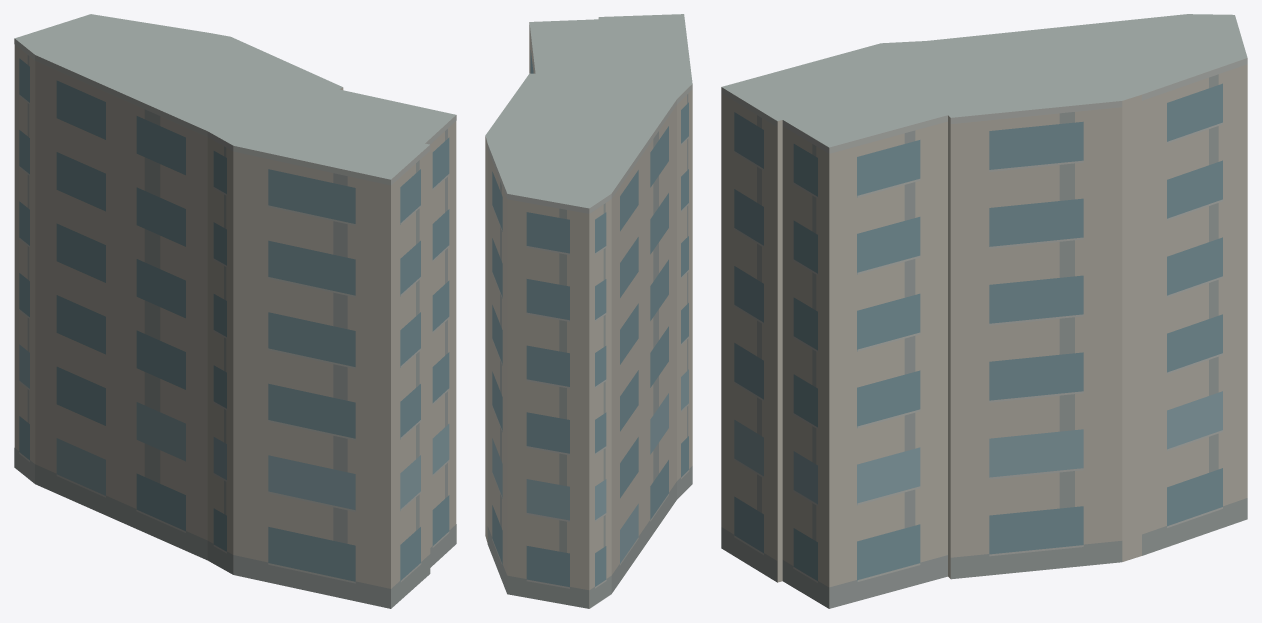
File: survey-upis-32962780.glb
3 views of the same model, side by side, from view 1: azimuth 30°, elevation 25°; view 2: azimuth 150°, elevation 25°; view 3: azimuth 270°, elevation 25° (orthographic). The views are drawn at different scales.
Parts seen in each view (by area): view 1: survey-upis-32962780.tmp; view 2: survey-upis-32962780.tmp; view 3: survey-upis-32962780.tmp.
Part boxes in pixels (bbox=[...]): survey-upis-32962780.tmp: bbox=[14, 14, 456, 608]; survey-upis-32962780.tmp: bbox=[485, 14, 692, 608]; survey-upis-32962780.tmp: bbox=[721, 14, 1247, 608].
Bounding box in the file's own units: 11.12 × 17.9 × 18.52.
